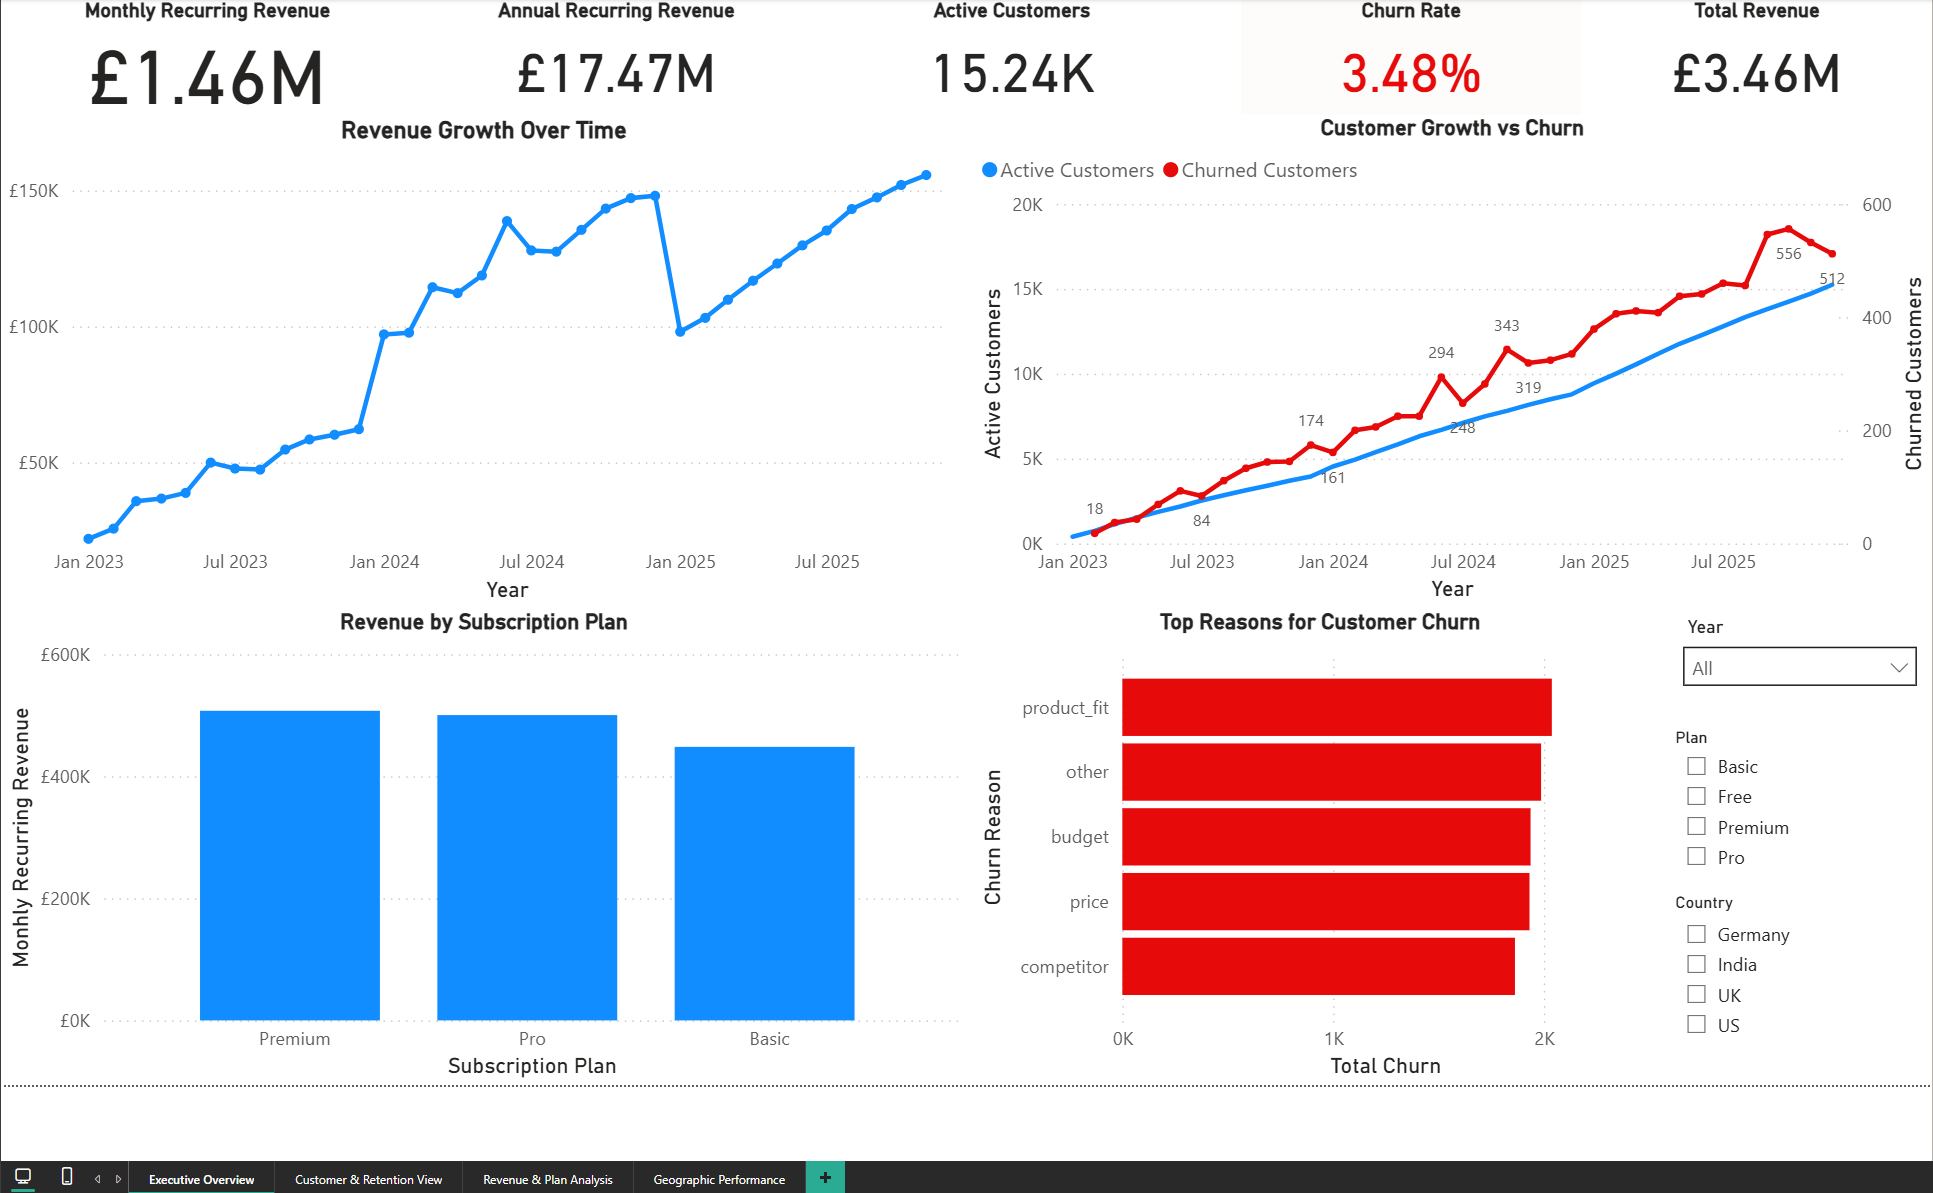

The page's visual inventory and layout, read from the dashboard file:
{"tool":"powerbi","page":{"name":"Executive Overview","canvas":[1280,720],"ordinal":0},"visuals":[{"type":"card","title":"Monthly Recurring Revenue","fields":{"Values":["Just Measures.MRR"]},"box":[0,0,273.9,76.7],"z":0},{"type":"card","title":"Annual Recurring Revenue","fields":{"Values":["Just Measures.ARR"]},"box":[273.9,0,268.5,76.7],"z":1000},{"type":"card","title":"Active Customers","fields":{"Values":["Just Measures.Active Customers"]},"box":[535.6,0,269.1,76.7],"z":2000},{"type":"card","title":"Churn Rate","fields":{"Values":["Just Measures.Current Month Churn Rate"]},"box":[821.8,0,226,76.7],"z":3000},{"type":"card","title":"Total Revenue","fields":{"Values":["Just Measures.Total Revenue"]},"box":[1047.8,0,232.2,76.7],"z":4000},{"type":"lineChart","title":"Revenue Growth Over Time","fields":{"Category":["DateTable.Date.Variation.Date Hierarchy.Year","DateTable.Date.Variation.Date Hierarchy.Month"],"Y":["Just Measures.Total Revenue"]},"box":[0,76.7,640.3,327.4],"z":5000},{"type":"lineChart","title":"Customer Growth vs Churn","fields":{"Category":["DateTable.Date.Variation.Date Hierarchy.Year","DateTable.Date.Variation.Date Hierarchy.Month"],"Y":["Just Measures.Active Customers"],"Y2":["Just Measures.Churned Customers"]},"box":[644.5,76.7,635.5,327.4],"z":6000},{"type":"clusteredBarChart","title":"Top Reasons for Customer Churn","fields":{"Category":["Churn_events.ChurnReason"],"Y":["Just Measures.Churn Count"]},"box":[644.5,404.1,460.2,315.7],"z":7000},{"type":"clusteredColumnChart","title":"Revenue by Subscription Plan","fields":{"Category":["subscription_plans.PlanName"],"Y":["Just Measures.MRR"]},"box":[0,404.1,640.3,315.7],"z":8000},{"type":"slicer","fields":{"Values":["DateTable.Year"]},"box":[1104.7,404.1,175.3,79.4],"z":9000},{"type":"slicer","title":"Plan","fields":{"Values":["subscription_plans.PlanName"]},"box":[1104.7,483.5,175.3,108.9],"z":10000},{"type":"slicer","title":"Country","fields":{"Values":["customers.Country"]},"box":[1104.7,592.4,175.3,127.4],"z":11000}]}

Visuals, with their boxes on the page's 1280x720 design canvas (x1, y1, x2, y2). These are canvas units, not pixel positions in the 1933x1193 screenshot, which may show the page scaled, cropped or inside an application window:
"Monthly Recurring Revenue" card: {"left": 0, "top": 0, "right": 274, "bottom": 77}
"Annual Recurring Revenue" card: {"left": 274, "top": 0, "right": 542, "bottom": 77}
"Active Customers" card: {"left": 536, "top": 0, "right": 805, "bottom": 77}
"Churn Rate" card: {"left": 822, "top": 0, "right": 1048, "bottom": 77}
"Total Revenue" card: {"left": 1048, "top": 0, "right": 1280, "bottom": 77}
"Revenue Growth Over Time" lineChart: {"left": 0, "top": 77, "right": 640, "bottom": 404}
"Customer Growth vs Churn" lineChart: {"left": 644, "top": 77, "right": 1280, "bottom": 404}
"Top Reasons for Customer Churn" clusteredBarChart: {"left": 644, "top": 404, "right": 1105, "bottom": 720}
"Revenue by Subscription Plan" clusteredColumnChart: {"left": 0, "top": 404, "right": 640, "bottom": 720}
slicer - DateTable.Year: {"left": 1105, "top": 404, "right": 1280, "bottom": 484}
"Plan" slicer: {"left": 1105, "top": 484, "right": 1280, "bottom": 592}
"Country" slicer: {"left": 1105, "top": 592, "right": 1280, "bottom": 720}
